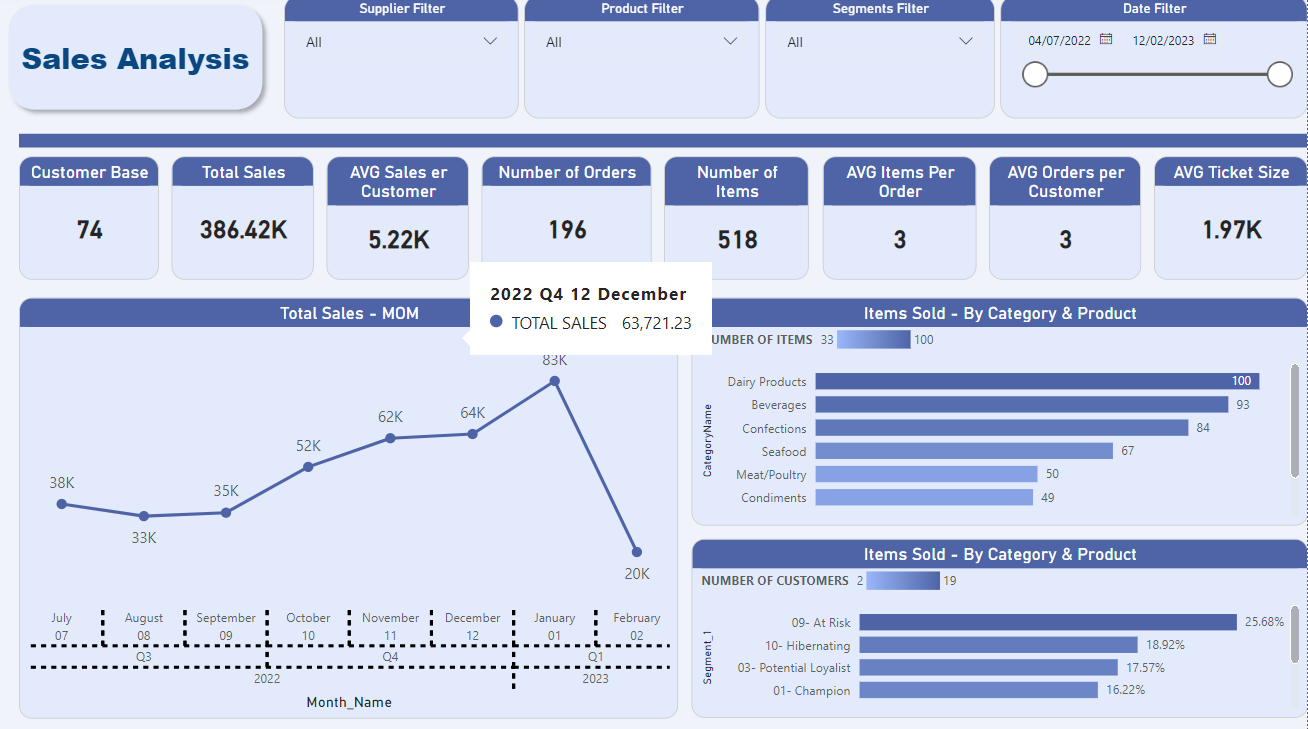

The page's visual inventory and layout, read from the dashboard file:
{"tool":"powerbi","page":{"name":"Main","canvas":[1280,720],"ordinal":0},"visuals":[{"type":"shape","box":[19.6,135.7,1260.7,13.5],"z":0},{"type":"slicer","title":"Date Filter","fields":{"Values":["DimDate.Date"]},"box":[979.5,0,300.5,120.6],"z":1000},{"type":"slicer","title":"Segments Filter","fields":{"Values":["Order_Details Data (Fact).Segment_1"]},"box":[749.6,0,224.5,120.6],"z":2000},{"type":"slicer","title":"Product Filter","fields":{"Values":["Dim - Products.ProductName"]},"box":[514.1,0,230,120.6],"z":3000},{"type":"slicer","title":"Supplier Filter","fields":{"Values":["Dim - Suppliers.Supplier Names"]},"box":[278.8,0,229.9,121.1],"z":4000},{"type":"card","title":"Customer Base","fields":{"Values":["_KEY MEASURES.NUMBER OF CUSTOMERS"]},"box":[19.6,157.7,137,121.1],"z":5000},{"type":"card","title":"Total Sales","fields":{"Values":["_KEY MEASURES.TOTAL SALES"]},"box":[168.9,157.7,139.4,121.1],"z":6000},{"type":"card","title":"Number of Orders","fields":{"Values":["_KEY MEASURES.NUMBER OF ORDERS"]},"box":[472.4,157.7,166.3,121.1],"z":7000},{"type":"card","title":"Number of Items","fields":{"Values":["_KEY MEASURES.NUMBER OF ITEMS"]},"box":[651.1,157.7,141.8,121.1],"z":8000},{"type":"card","title":"AVG Items Per Order","fields":{"Values":["_KEY MEASURES.AVG ITEMS PER ORDER"]},"box":[805.3,157.7,150.4,121.1],"z":9000},{"type":"card","title":"AVG Orders per Customer","fields":{"Values":["_KEY MEASURES.AVG ORDERS PER CUSTOMER"]},"box":[968,157.7,149.2,121.1],"z":10000},{"type":"card","title":"AVG Sales Per Customer","fields":{"Values":["_KEY MEASURES.AVG SALES PER CUSTOMER"]},"box":[828.9,316.2,150.1,120.9],"z":11000},{"type":"card","title":"AVG Ticket Size","fields":{"Values":["_KEY MEASURES.AVG SALES PER ORDER"]},"box":[1129.6,157.7,150.4,121.1],"z":12000},{"type":"lineChart","title":"Total Sales - MOM","fields":{"Category":["DimDate.YEAR Hierarchy.YEAR","DimDate.YEAR Hierarchy.Quarter","DimDate.YEAR Hierarchy.MONTH_NUMBER_FORMAT","DimDate.YEAR Hierarchy.Month_Name","DimDate.YEAR Hierarchy.WEEK NUMBER MONTHLY","DimDate.YEAR Hierarchy.DAY"],"Y":["_KEY MEASURES.TOTAL SALES"]},"box":[20.1,295.4,645,411.9],"z":13000},{"type":"clusteredBarChart","title":"Items Sold - By Category & Product","fields":{"Y":["_KEY MEASURES.NUMBER OF ITEMS"],"Category":["Dim - Categories.CategoryName","Dim - Products.ProductName"]},"box":[677.2,295.4,602.8,223],"z":14000},{"type":"clusteredBarChart","title":"Items Sold - By Category & Product","fields":{"Y":["_KEY MEASURES.NUMBER OF CUSTOMERS"],"Category":["Order_Details Data (Fact).Segment_1"]},"box":[677.2,532.5,602.8,174.8],"z":15000},{"type":"card","title":"AVG Sales er Customer","fields":{"Values":["_KEY MEASURES.AVG SALES PER CUSTOMER"]},"box":[320.6,157.7,139.4,121.1],"z":16000},{"type":"shape","box":[0,0,266.6,121.1],"z":17000}]}

Visuals, with their boxes in screenshot pixels (x1, y1, x2, y2), scaled from the page's 1280x720 canvas onto the 1308x729 screenshot:
shape: 20, 137, 1307, 151
"Date Filter" slicer: 1001, 0, 1307, 122
"Segments Filter" slicer: 766, 0, 995, 122
"Product Filter" slicer: 525, 0, 760, 122
"Supplier Filter" slicer: 285, 0, 520, 123
"Customer Base" card: 20, 160, 160, 282
"Total Sales" card: 173, 160, 315, 282
"Number of Orders" card: 483, 160, 653, 282
"Number of Items" card: 665, 160, 810, 282
"AVG Items Per Order" card: 823, 160, 977, 282
"AVG Orders per Customer" card: 989, 160, 1142, 282
"AVG Sales Per Customer" card: 847, 320, 1000, 443
"AVG Ticket Size" card: 1154, 160, 1307, 282
"Total Sales - MOM" lineChart: 21, 299, 680, 716
"Items Sold - By Category & Product" clusteredBarChart: 692, 299, 1307, 525
"Items Sold - By Category & Product" clusteredBarChart: 692, 539, 1307, 716
"AVG Sales er Customer" card: 328, 160, 470, 282
shape: 0, 0, 272, 123
